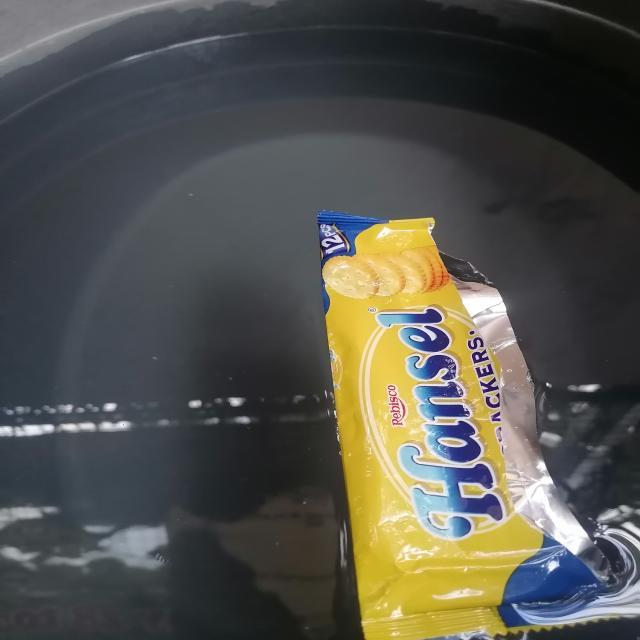Plastic Wrapper: (318, 211, 640, 640)
